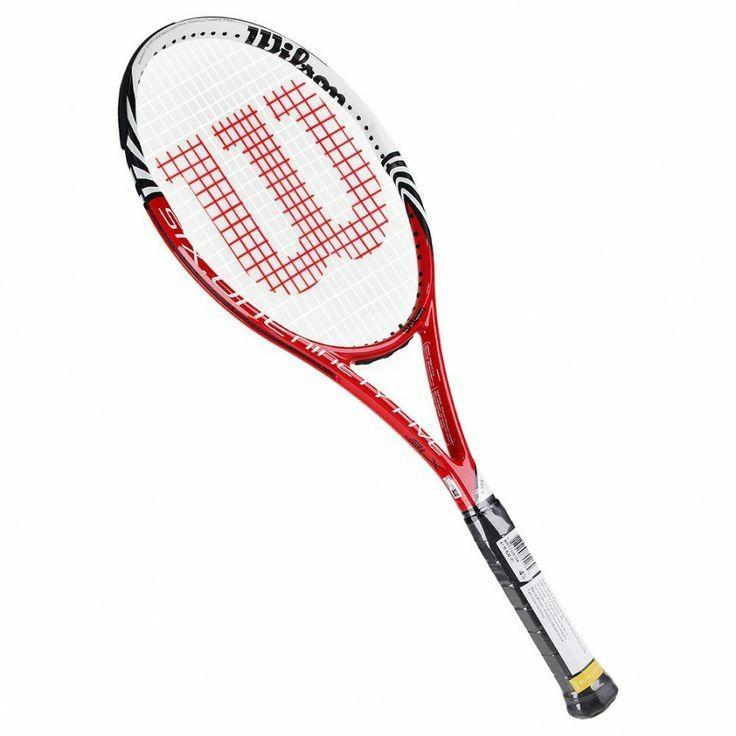Tennis-Racket: (111, 12, 620, 731)
